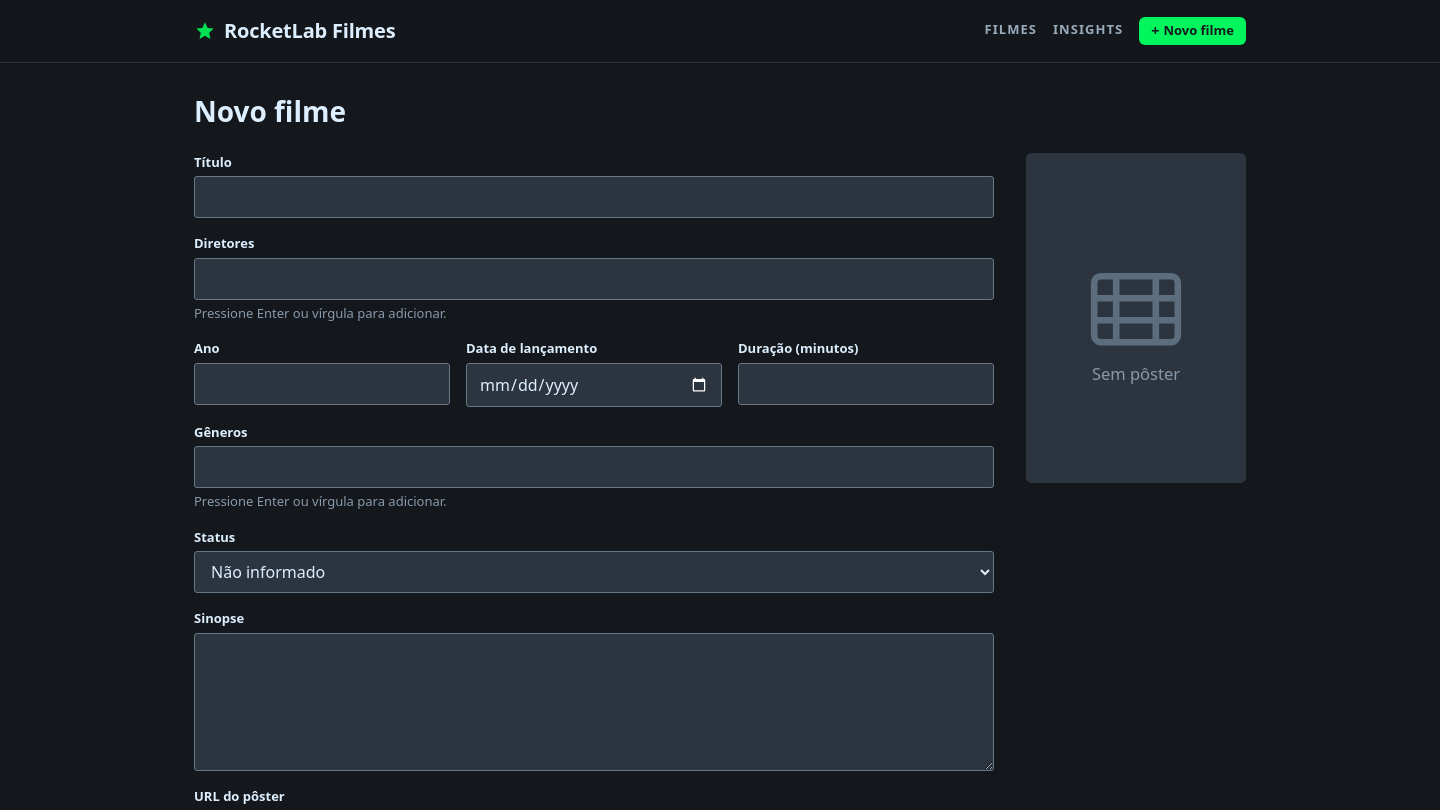
NewMoviePage — cadastro › mostra os erros 422 da API nos campos
Type "Duna" into the field labelled "Título" at (594, 197), box x1=194 y1=176 x2=994 y2=218
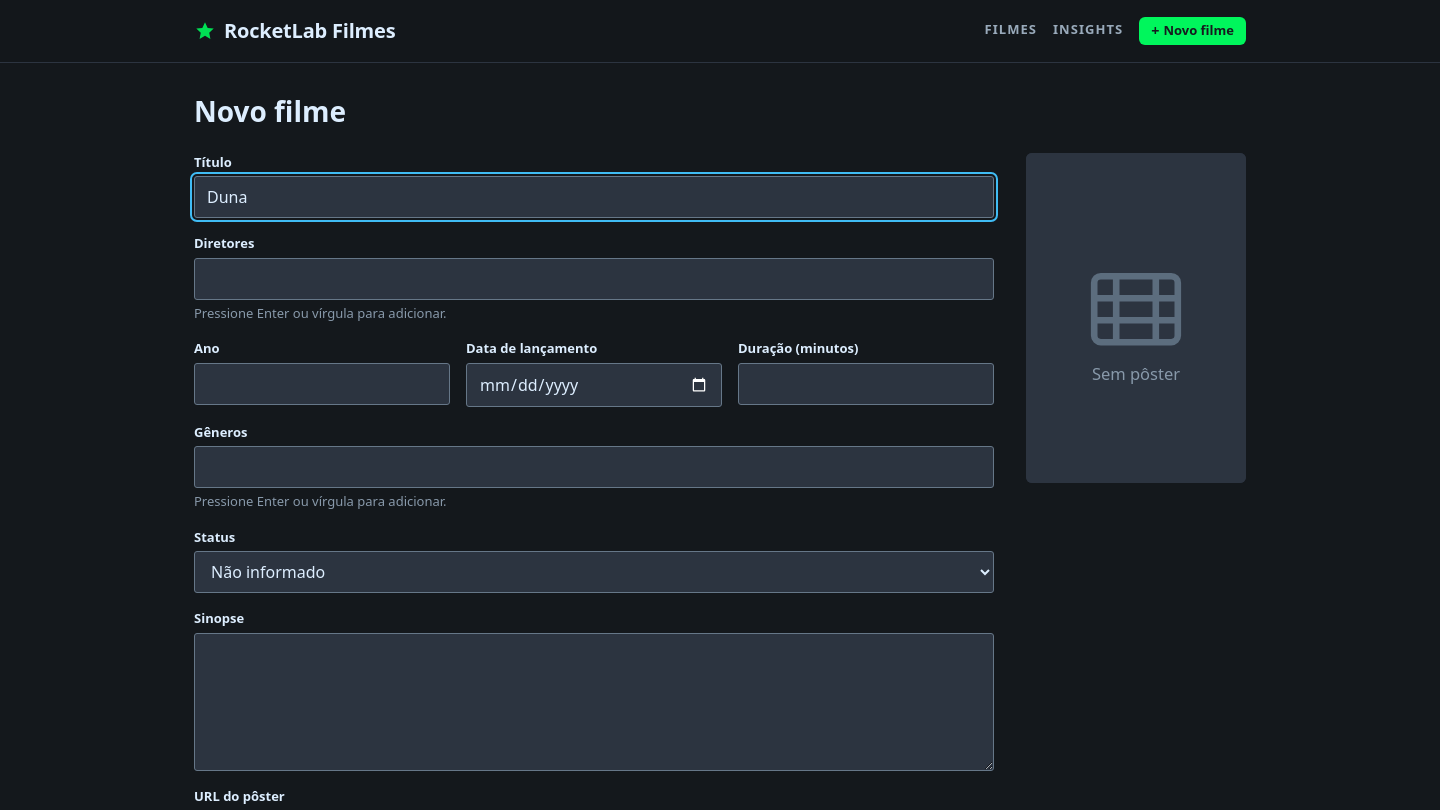
Type "X" into the field labelled "Diretores" at (594, 279), box x1=194 y1=258 x2=994 y2=300
Then press Enter
(page scrolled)
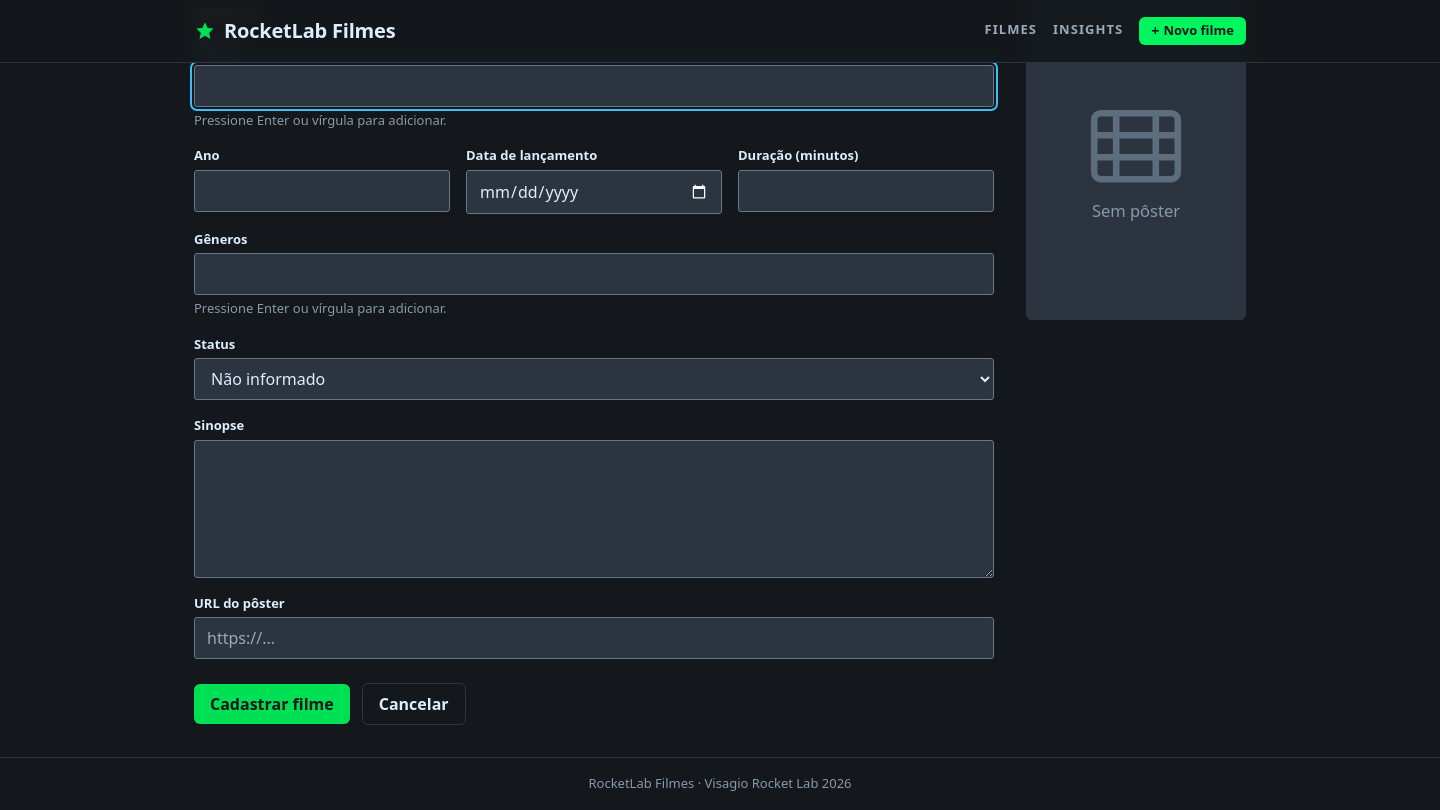
Click the button "Cadastrar filme" at (272, 704), box x1=194 y1=684 x2=350 y2=724
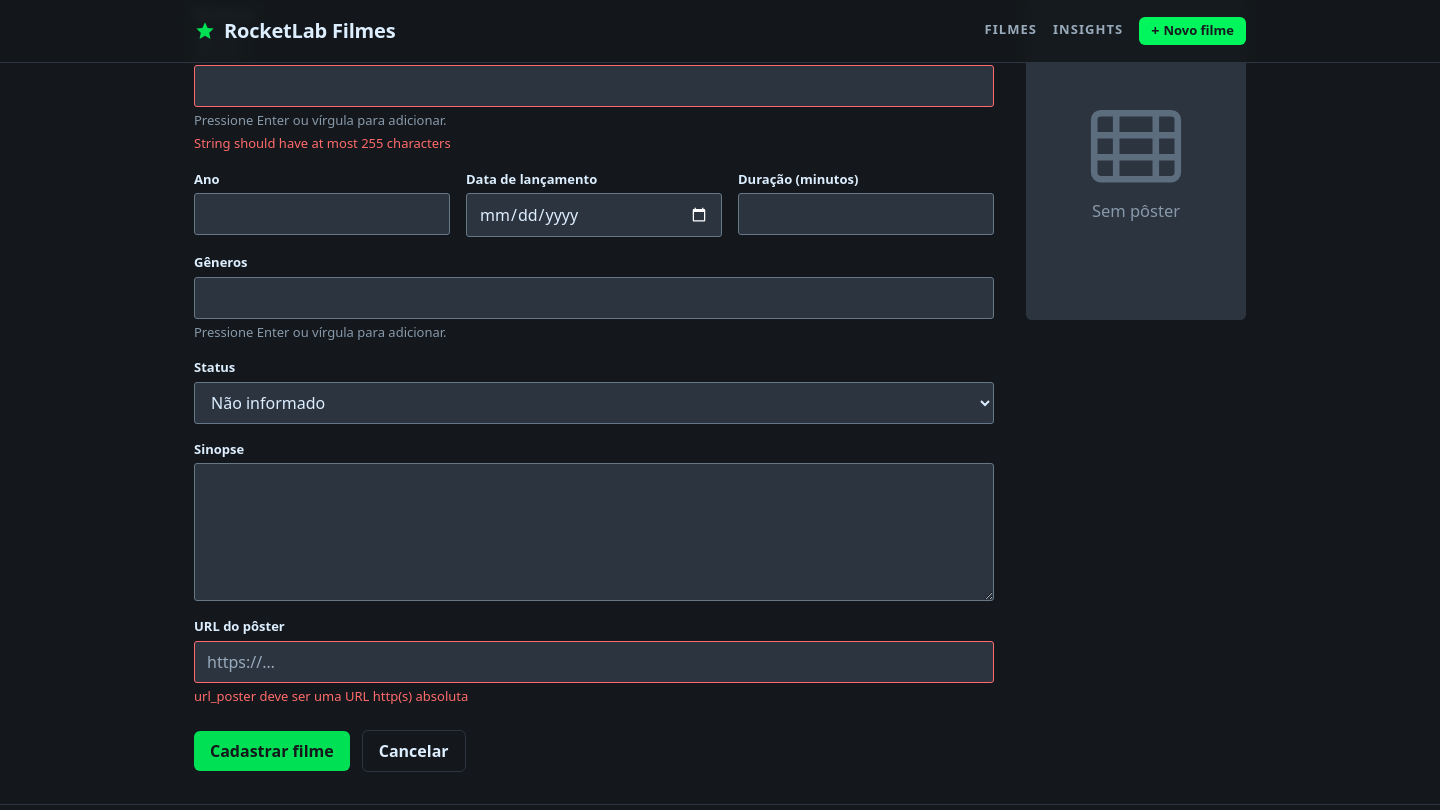
Expected: the text "url_poster deve ser uma URL http(s) absoluta" is shown, x1=194 y1=687 x2=468 y2=705
